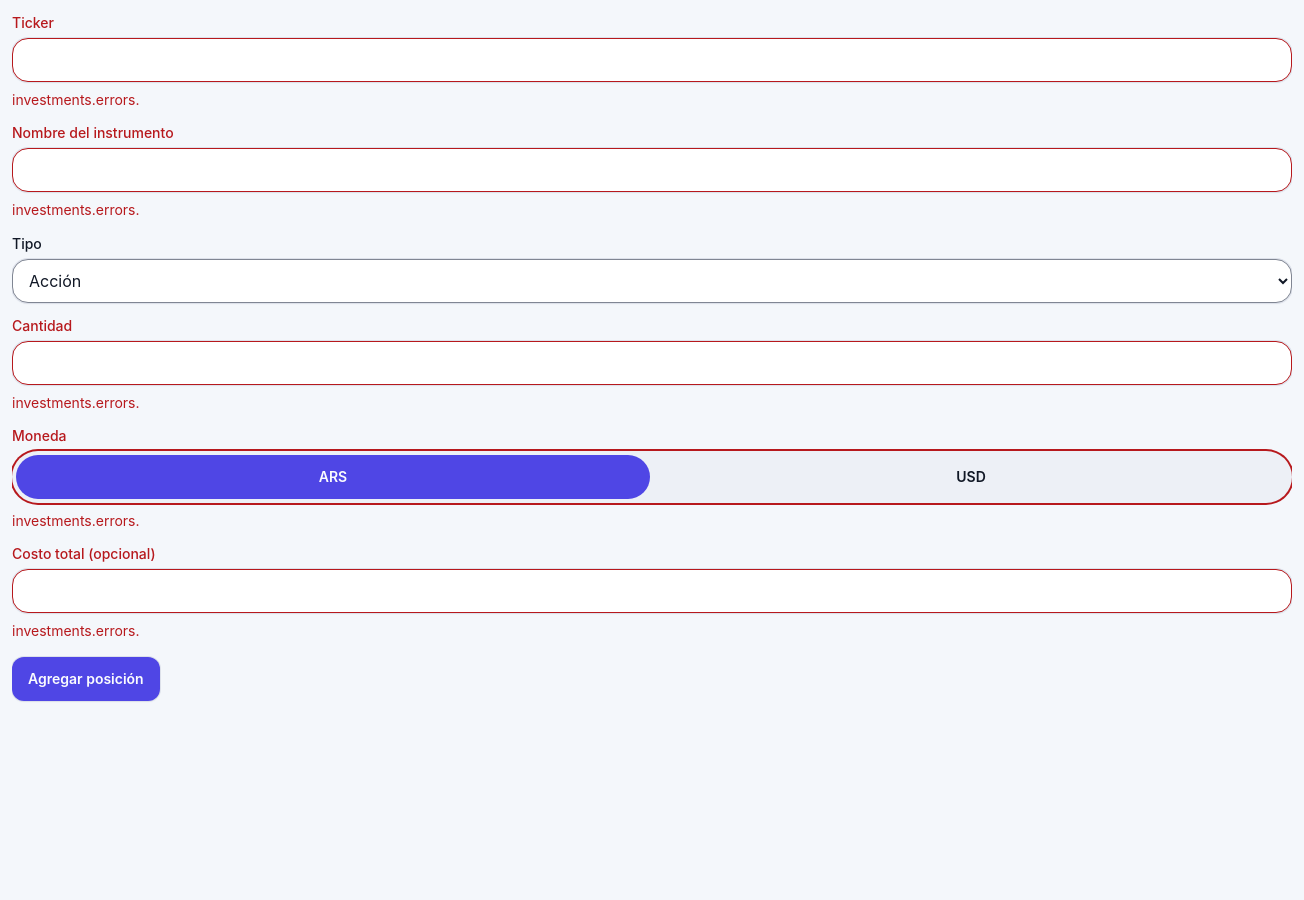
Test: AddHoldingForm › re-enables ARS when the type is no longer crypto (AC-18)
Select "Cripto" in the dropdown labelled "Tipo" at (652, 281), box [12,259,1292,303]
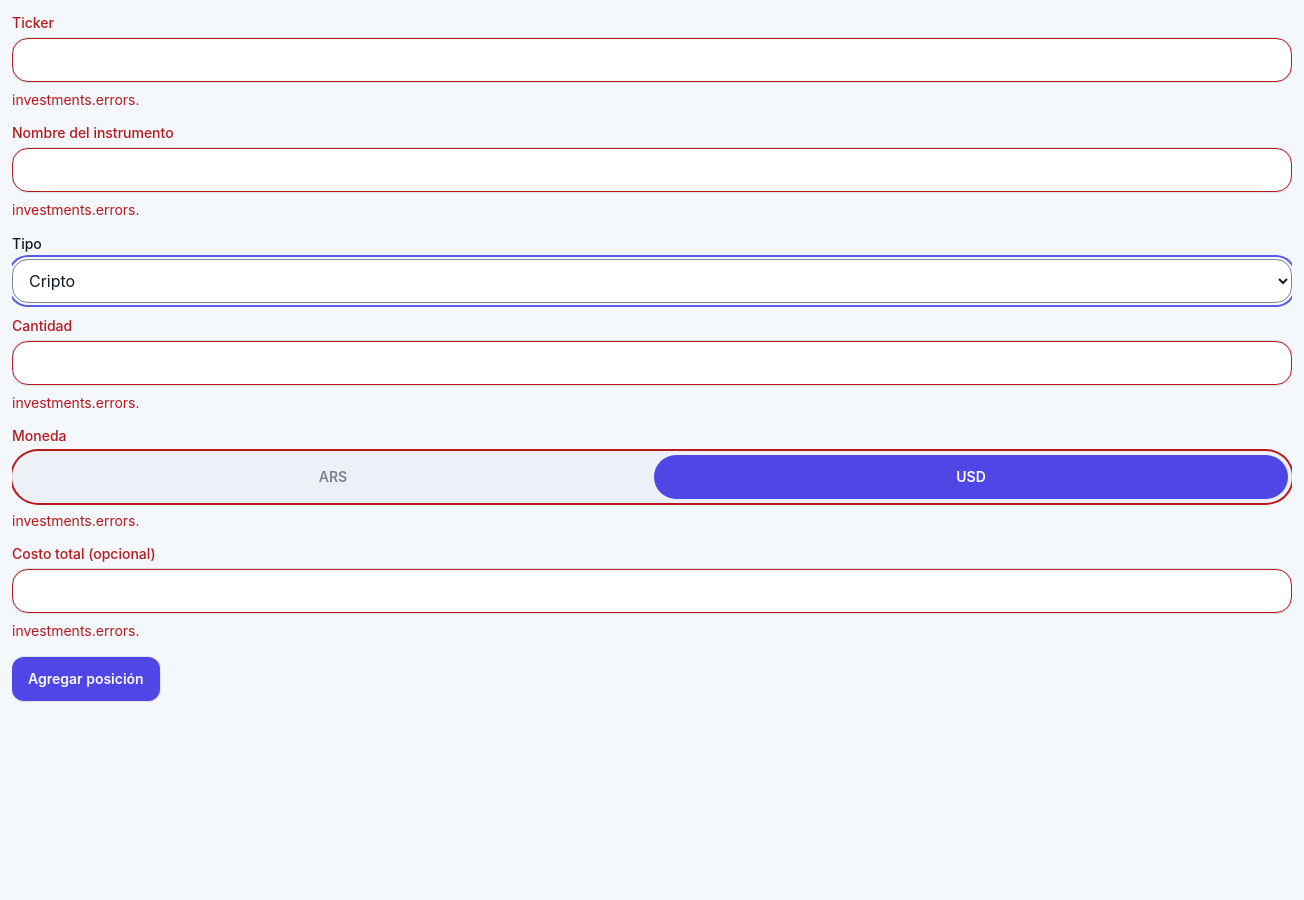
Select "Acción" in the dropdown labelled "Tipo" at (652, 281), box [12,259,1292,303]
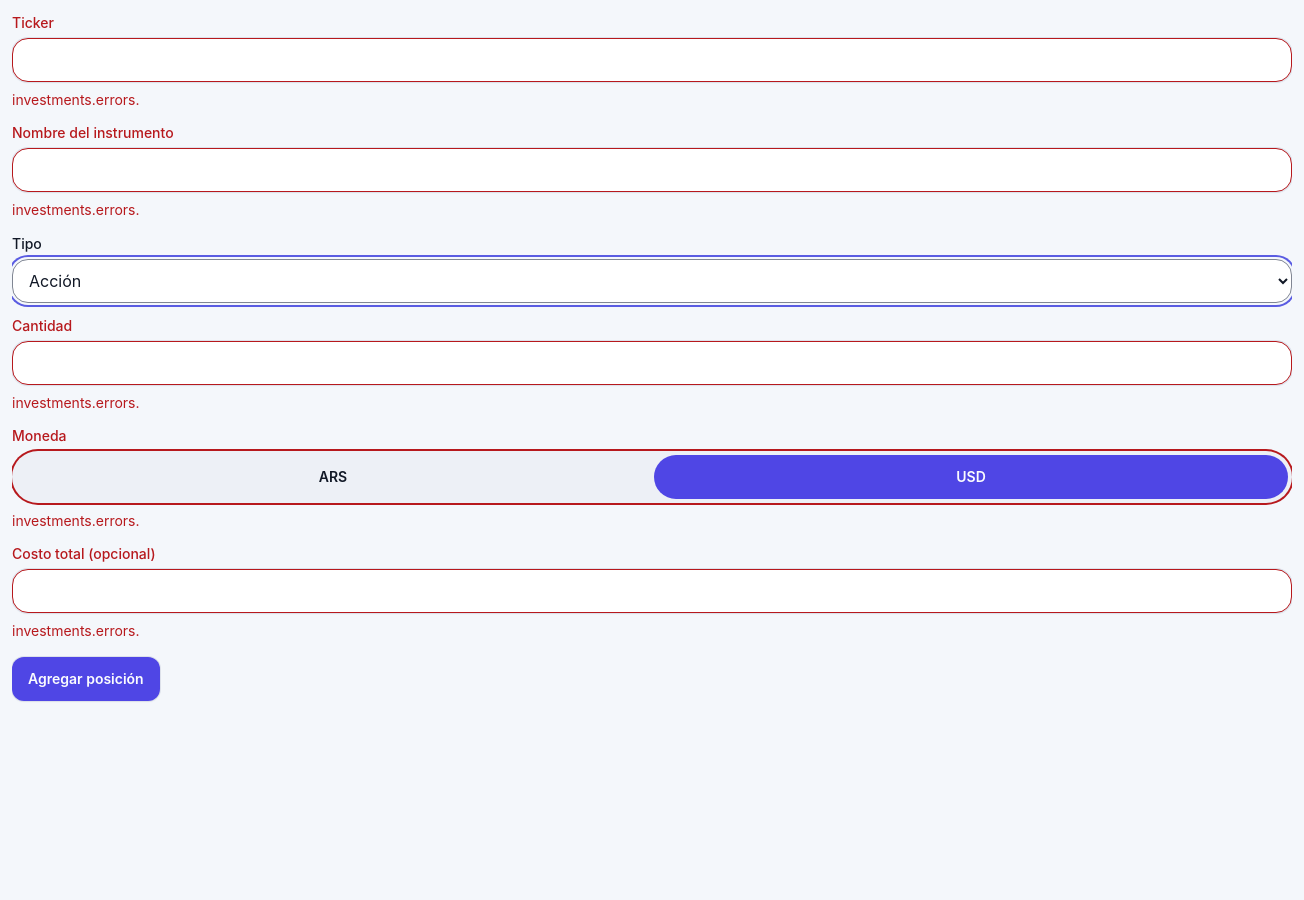
Now the radio button labelled "ARS" is enabled, box [319,468,347,485]
